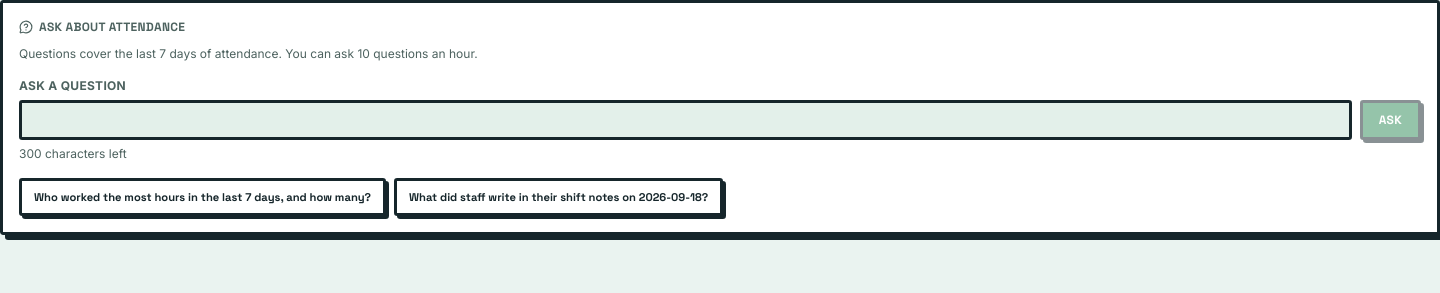
Test case: AskCard › shows the server's reason for an invalid question in an alert
In the field labelled "Ask a question": {"x": 685, "y": 120} [19, 100, 1352, 140], type "Who?"
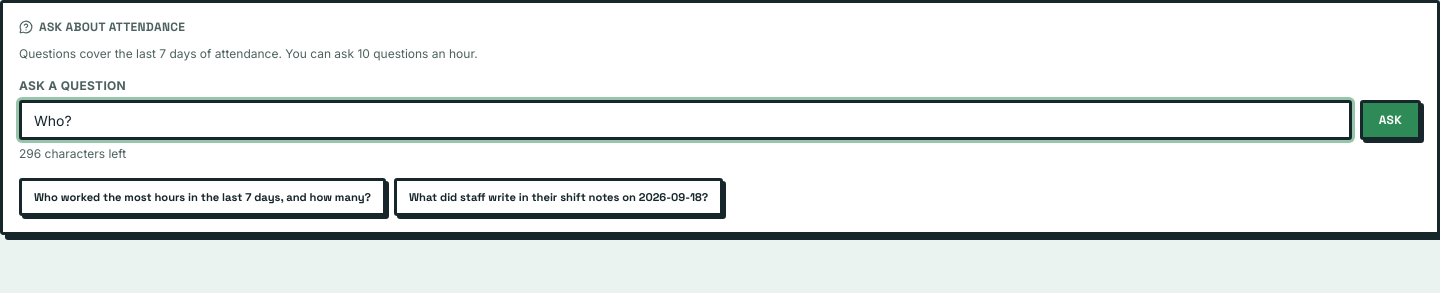
Click the button "Ask": {"x": 1390, "y": 120} [1360, 100, 1421, 140]
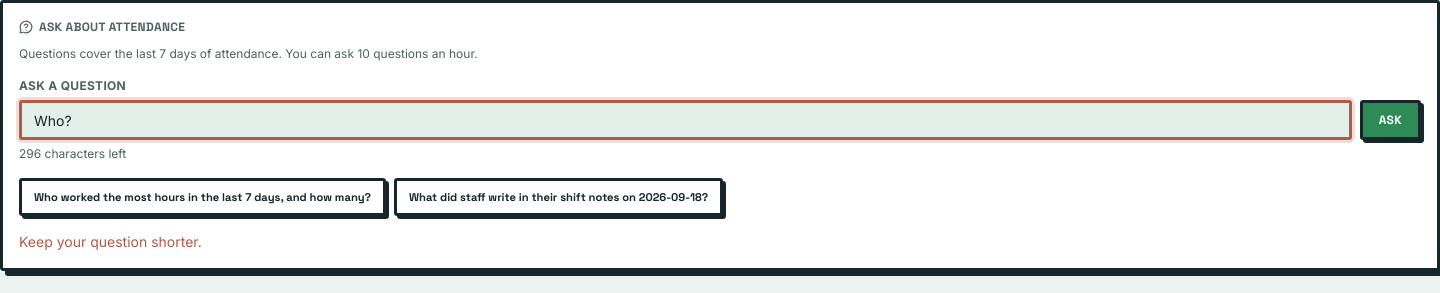
Expected: the field labelled "Ask a question" is enabled, [19, 100, 1352, 140]
Result: the message reads "Keep your question shorter." at [19, 233, 202, 250]
